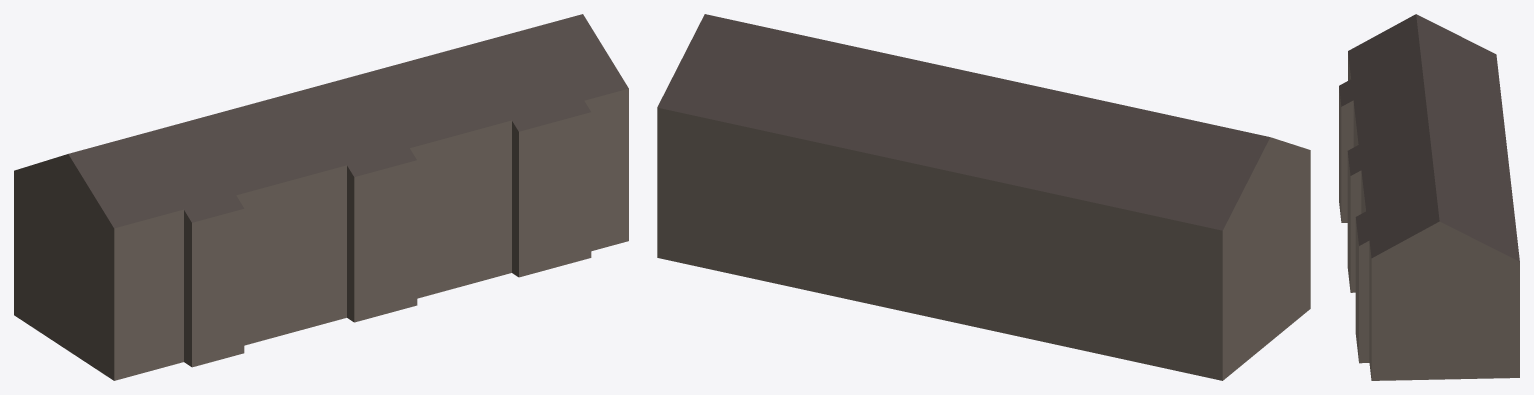
The picture shows the model from 3 angles, left to right: view 1: azimuth 30°, elevation 25°; view 2: azimuth 150°, elevation 25°; view 3: azimuth 270°, elevation 25°; orthographic projection. The views are drawn at different scales.
Visible parts, largest first — view 1: HP-w858824364; view 2: HP-w858824364; view 3: HP-w858824364.
Boxes of the visible parts, <box> form: HP-w858824364: <box>14,14,628,380</box>; HP-w858824364: <box>657,14,1310,380</box>; HP-w858824364: <box>1339,14,1519,380</box>.
Bounding box in the file's own units: 35.01 × 12.26 × 12.72.
